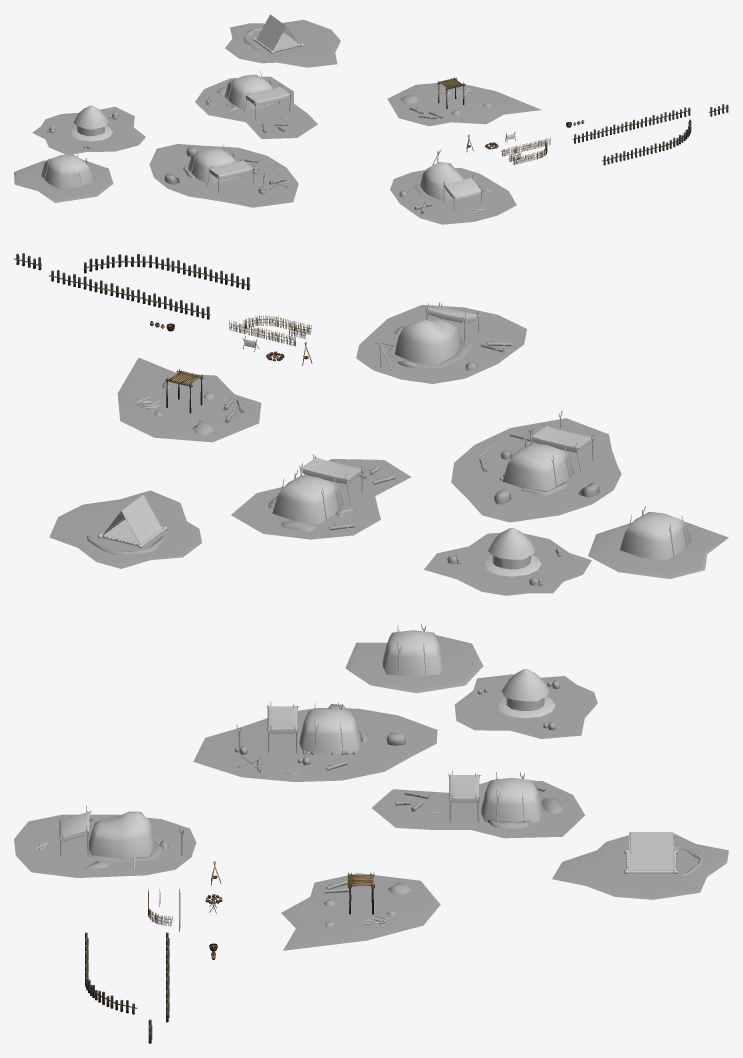
The model's file is Huts.fbx.
3 views of the same model, one above another, from view 1: azimuth 30°, elevation 25°; view 2: azimuth 150°, elevation 25°; view 3: azimuth 270°, elevation 25° (orthographic). The views are drawn at different scales.
Visible parts, largest first — view 1: Ground (×7), Hut, Hut13, Hut14, Hut10, Hut7, Hut11, Fence16, Hut9, Fence14, Hut15, Hut8; view 2: Ground (×7), Hut, Hut14, Hut7, Hut10, Hut13, Hut11, Fence14, Fence16, Hut15, Hut8, Hut9 (+3 smaller); view 3: Ground (×7), Hut10, Hut, Hut7, Hut14, Hut11, Hut13, Hut15, Hut8, Hut9, Fence14.
Part boxes in pixels (x1,y1,x2,y2): Ground (×7): (14, 19, 541, 224); Hut: (41, 150, 93, 189); Hut13: (69, 105, 112, 141); Hut14: (224, 71, 276, 110); Hut10: (420, 162, 463, 201); Hut7: (187, 144, 239, 183); Hut11: (252, 14, 303, 53); Fence16: (572, 107, 690, 143); Hut9: (442, 175, 482, 209); Fence14: (602, 119, 691, 165); Hut15: (243, 84, 291, 119); Hut8: (206, 158, 254, 193); Ground (×7): (49, 304, 728, 595); Hut: (620, 506, 691, 560); Hut14: (272, 470, 344, 524); Hut7: (502, 437, 574, 490); Hut10: (394, 319, 463, 364); Hut13: (482, 528, 541, 576); Hut11: (97, 495, 167, 547); Fence14: (83, 254, 250, 290); Fence16: (49, 270, 209, 319); Hut15: (299, 454, 364, 503); Hut8: (530, 422, 594, 471); Hut9: (425, 302, 480, 342); Ground (×7): (14, 635, 728, 950); Hut10: (89, 811, 155, 857); Hut: (382, 624, 444, 675); Hut7: (299, 702, 361, 754); Hut14: (481, 772, 542, 822); Hut11: (624, 832, 677, 873); Hut13: (495, 669, 555, 718); Hut15: (448, 770, 481, 822); Hut8: (266, 702, 299, 753); Hut9: (59, 806, 91, 855); Fence14: (85, 932, 137, 1014).
Size of the model in its own units: 9254 by 418 by 6831.
